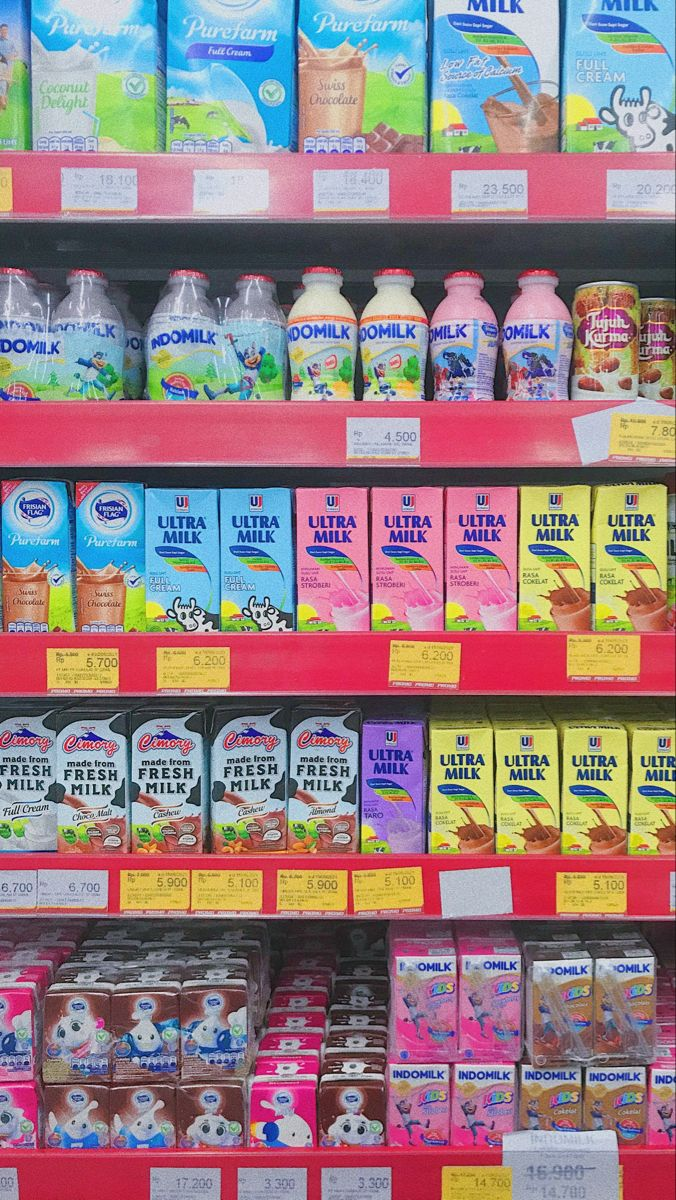Fresh Milk: (203, 729, 296, 822)
Indomilk: (144, 310, 224, 390)
Ultra Milk: (285, 487, 365, 567)
